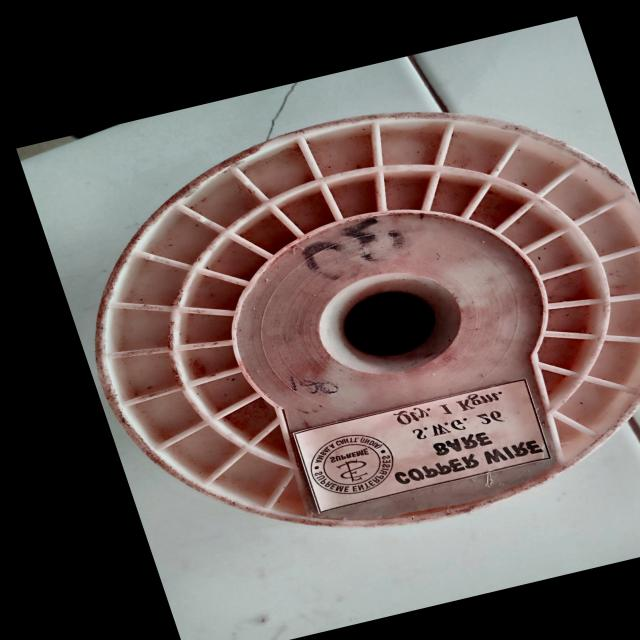Copper Wire: (37, 58, 640, 588)
